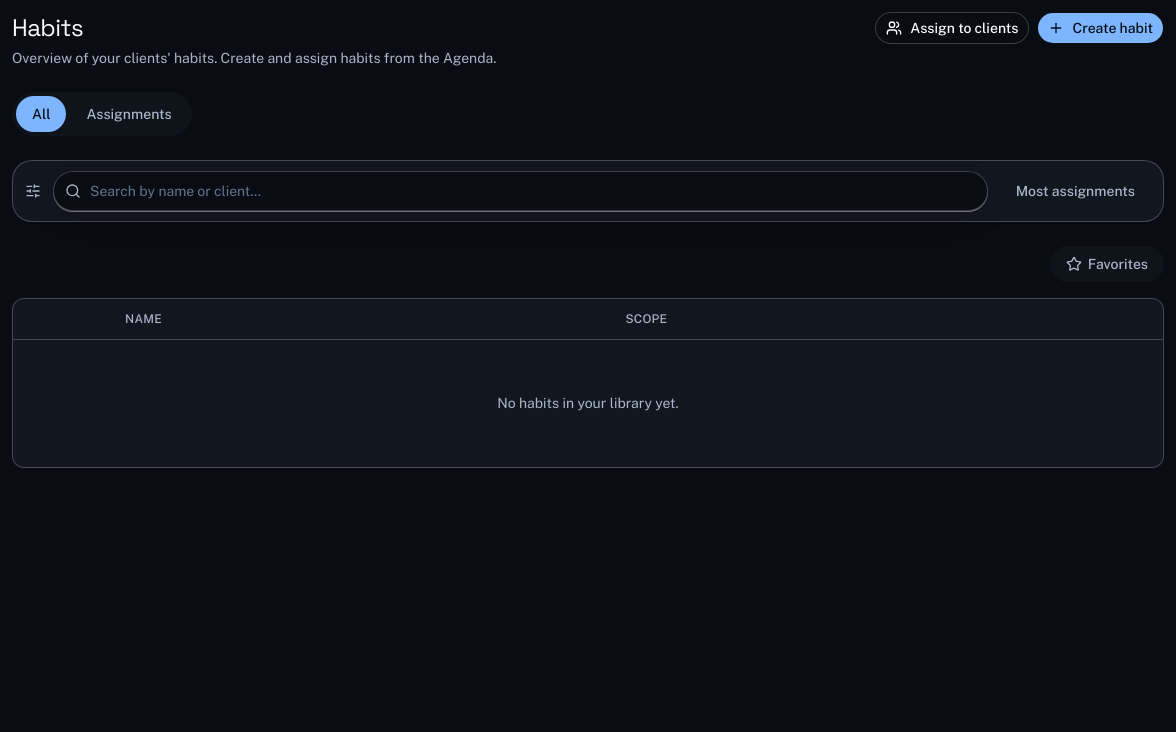
Scenario: Habits — assignments visibility › drops a recurrence that already ended, keeps an open-ended one
What coordinates should you click on to do the following:
click the button "Assignments"
I would click on:
 (129, 114)
Its box is x1=70 y1=96 x2=188 y2=132.
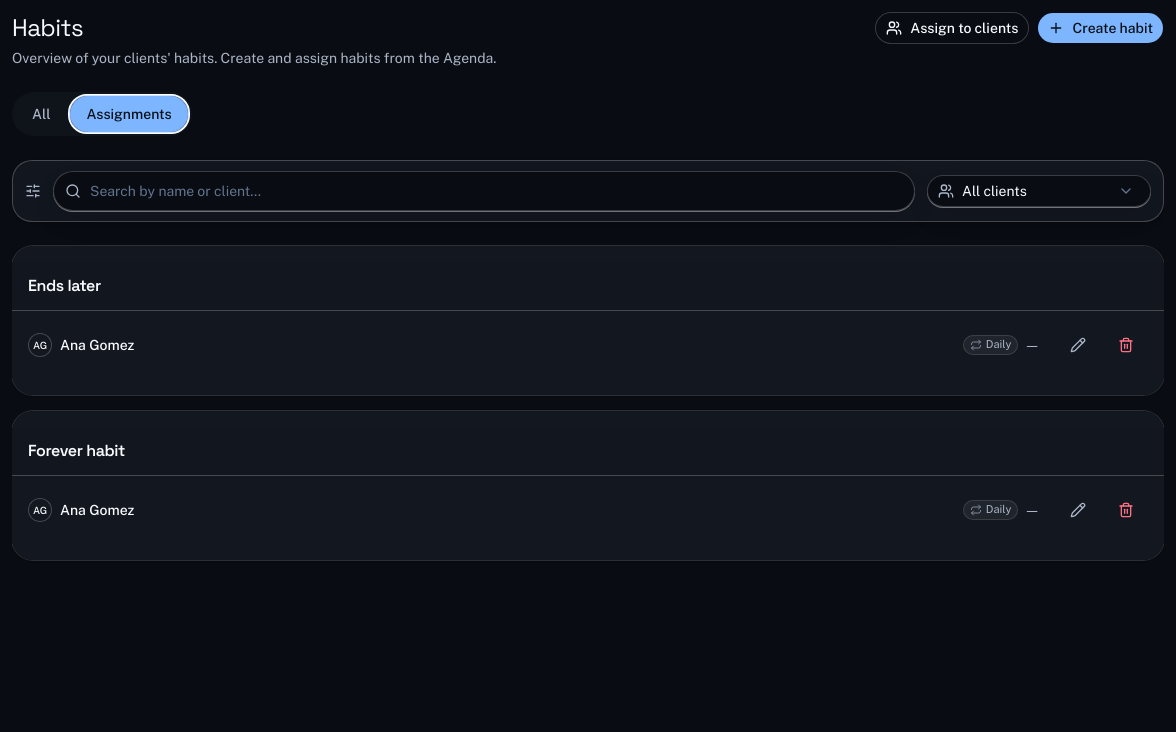
Check: the heading "Forever habit" is shown, box x1=28 y1=439 x2=125 y2=463
Check: the heading "Ends later" is shown, box x1=28 y1=274 x2=101 y2=298
